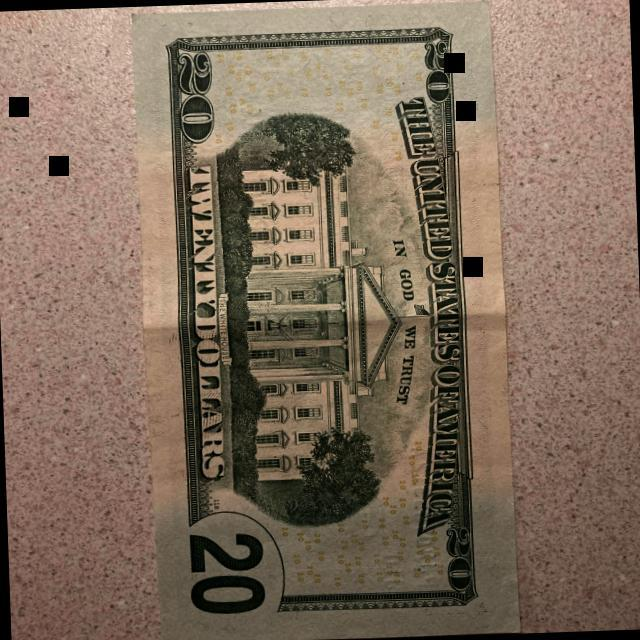twenty: (130, 3, 517, 640)
